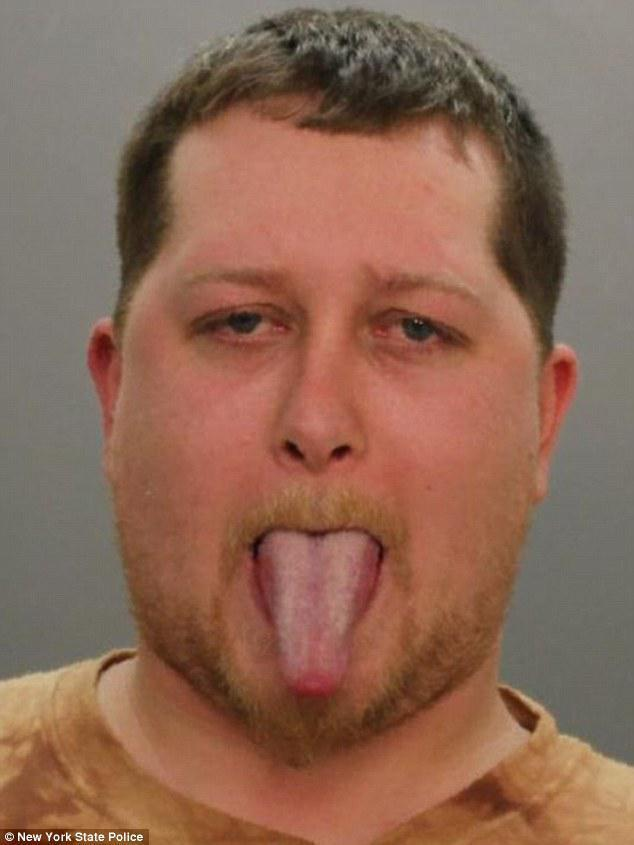Drunk: (137, 116, 515, 714)
